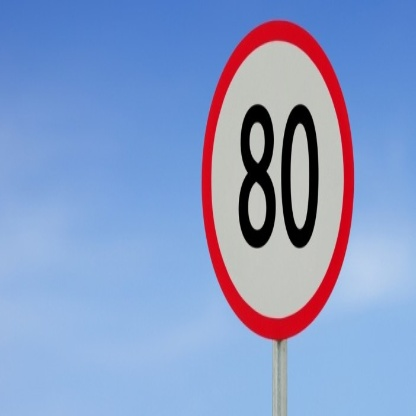limit2: (190, 14, 366, 347)
